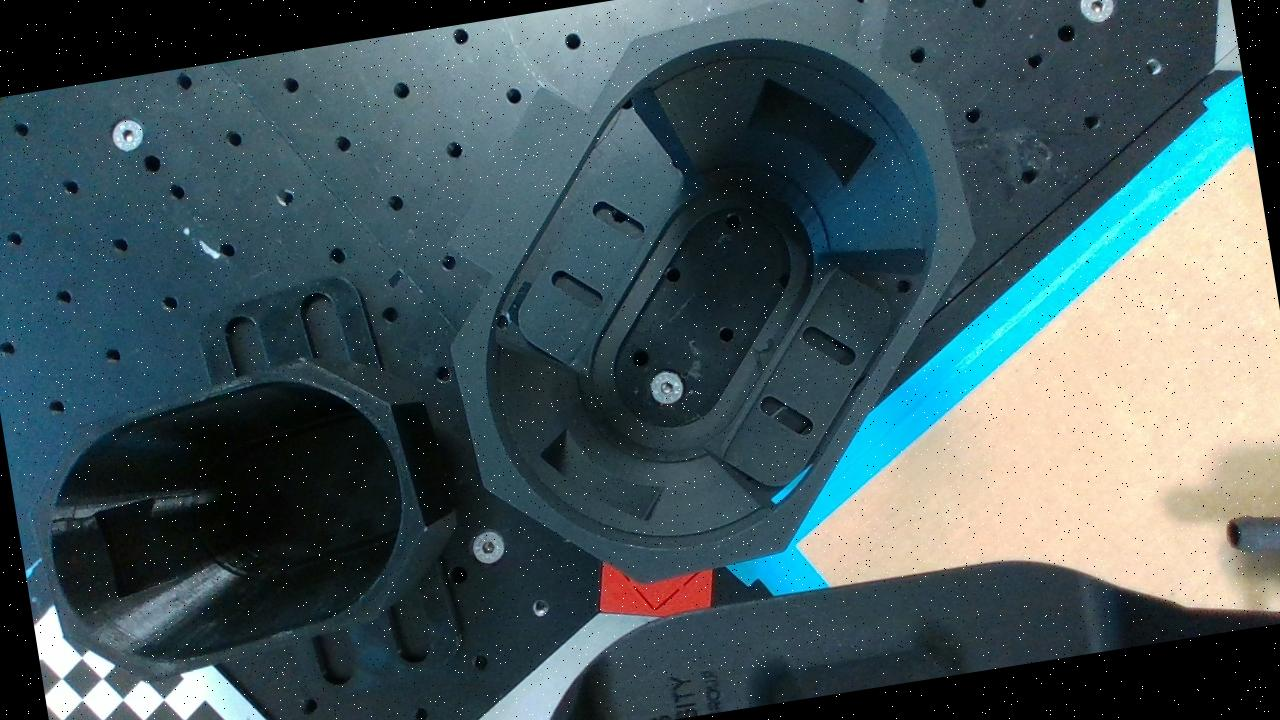big_interface: (405, 0, 1023, 608)
small_interface: (11, 338, 446, 696)
